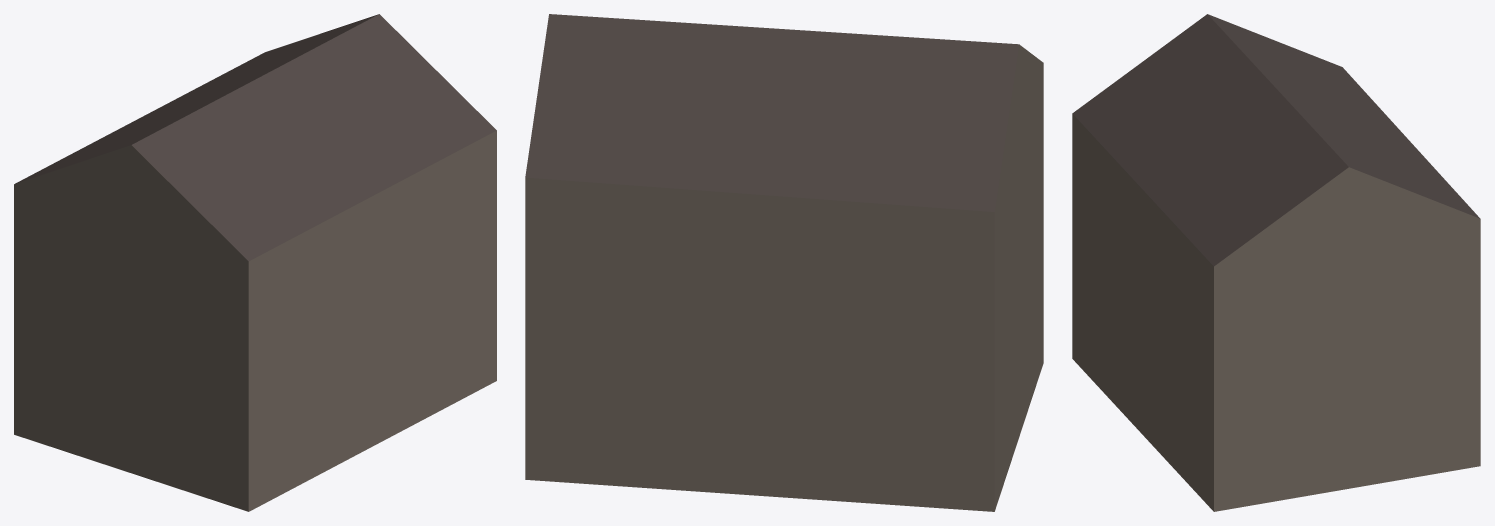
The picture shows the model from 3 angles, left to right: view 1: azimuth 30°, elevation 25°; view 2: azimuth 150°, elevation 25°; view 3: azimuth 270°, elevation 25°; orthographic projection. The views are drawn at different scales.
Visible parts, largest first — view 1: HP-w1196823103; view 2: HP-w1196823103; view 3: HP-w1196823103.
Part boxes in pixels (x1,y1,x2,y2): HP-w1196823103: [14, 14, 496, 511]; HP-w1196823103: [525, 14, 1043, 511]; HP-w1196823103: [1072, 14, 1480, 511].
Size of the model in its own units: 10.46 by 7.87 by 9.05.
